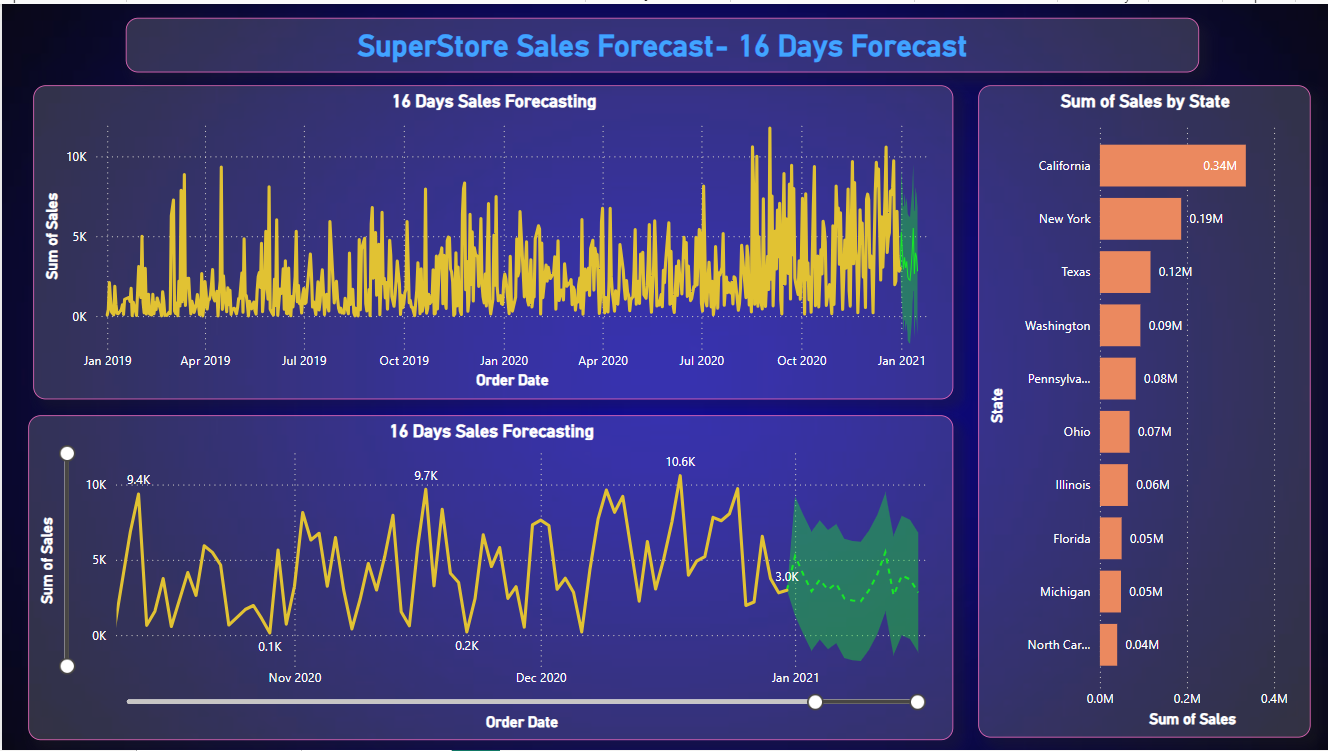

The page's visual inventory and layout, read from the dashboard file:
{"tool":"powerbi","page":{"name":"SaleForcasting","canvas":[1280,720],"ordinal":1},"visuals":[{"type":"lineChart","title":"16 Days Sales Forecasting","fields":{"Y":["Sum(SuperStore_Sales_Dataset.Sales)"],"Category":["SuperStore_Sales_Dataset.Order Date"]},"box":[30.2,78.4,887.9,302.8],"z":0},{"type":"lineChart","title":"16 Days Sales Forecasting","fields":{"Y":["Sum(SuperStore_Sales_Dataset.Sales)"],"Category":["SuperStore_Sales_Dataset.Order Date"]},"box":[25.3,396.9,892.8,313.7],"z":1000},{"type":"barChart","fields":{"Y":["Sum(SuperStore_Sales_Dataset.Sales)"],"Category":["SuperStore_Sales_Dataset.State"]},"box":[942.2,78.4,320.9,629.8],"z":2000},{"type":"textbox","box":[119.4,13.3,1036.3,53.1],"z":3000}]}

Visuals, with their boxes in screenshot pixels (x1, y1, x2, y2), scaled from the page's 1280x720 canvas onto the 1328x751 screenshot:
"16 Days Sales Forecasting" lineChart: {"left": 31, "top": 82, "right": 953, "bottom": 398}
"16 Days Sales Forecasting" lineChart: {"left": 26, "top": 414, "right": 953, "bottom": 741}
barChart - Sum(SuperStore_Sales_Dataset.Sales) x SuperStore_Sales_Dataset.State: {"left": 978, "top": 82, "right": 1310, "bottom": 739}
textbox: {"left": 124, "top": 14, "right": 1199, "bottom": 69}
